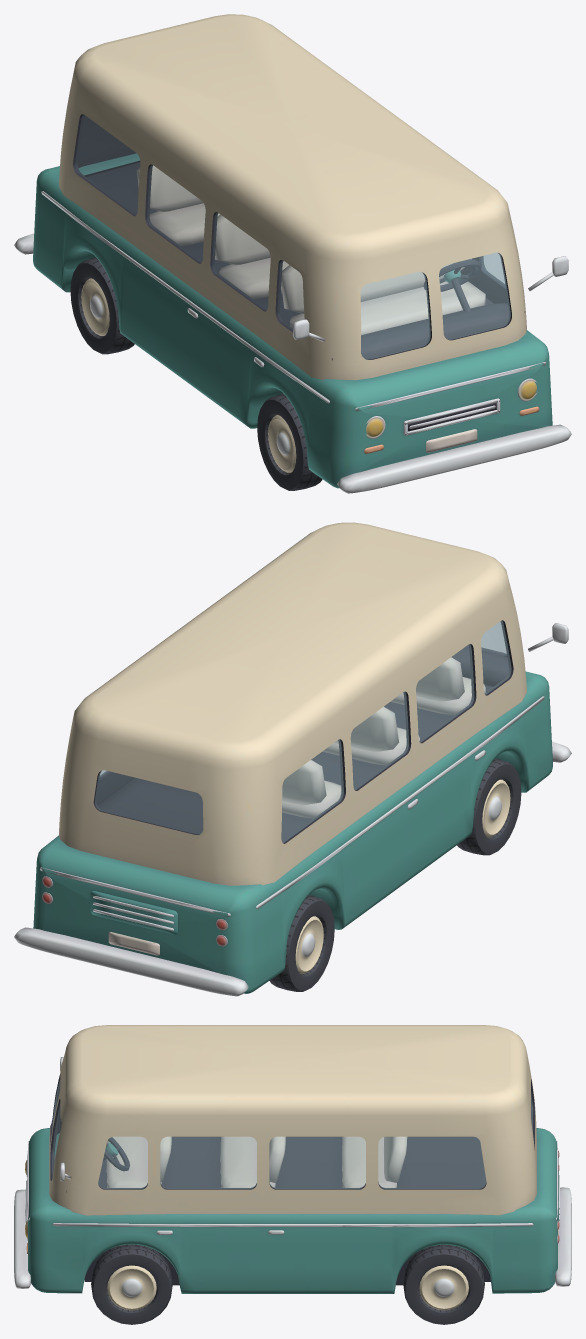
Rendered from 1960s-microbus.glb.
The picture shows the model from 3 angles, top to bottom: view 1: azimuth 30°, elevation 25°; view 2: azimuth 150°, elevation 25°; view 3: azimuth 270°, elevation 25°; orthographic projection. The views are drawn at different scales.
Visible parts, largest first — view 1: 1960s-microbus_body, 1960s-microbus_windows, 1960s-microbus_wheel_fr, 1960s-microbus_wheel_rr; view 2: 1960s-microbus_body, 1960s-microbus_windows, 1960s-microbus_wheel_rr, 1960s-microbus_wheel_fr; view 3: 1960s-microbus_body, 1960s-microbus_windows, 1960s-microbus_wheel_fl, 1960s-microbus_wheel_rl.
Part boxes in pixels (box(x1,y1,x2,y2)): 1960s-microbus_body: box(14, 14, 571, 493); 1960s-microbus_windows: box(75, 114, 510, 359); 1960s-microbus_wheel_fr: box(257, 394, 322, 490); 1960s-microbus_wheel_rr: box(70, 257, 134, 354); 1960s-microbus_body: box(14, 522, 571, 996); 1960s-microbus_windows: box(95, 620, 511, 842); 1960s-microbus_wheel_rr: box(269, 895, 334, 991); 1960s-microbus_wheel_fr: box(457, 758, 521, 855); 1960s-microbus_body: box(14, 1025, 571, 1293); 1960s-microbus_windows: box(52, 1080, 532, 1188); 1960s-microbus_wheel_fl: box(91, 1244, 172, 1324); 1960s-microbus_wheel_rl: box(403, 1244, 484, 1324).
Bounding box in the file's own units: 2.13 × 1.98 × 4.5.
Materials: 18 (5 with a texture image).
